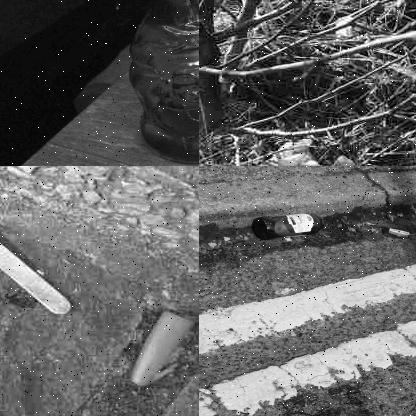glass: (126, 0, 198, 165), (248, 208, 332, 247)
plastic: (121, 304, 198, 389), (248, 134, 359, 165)
